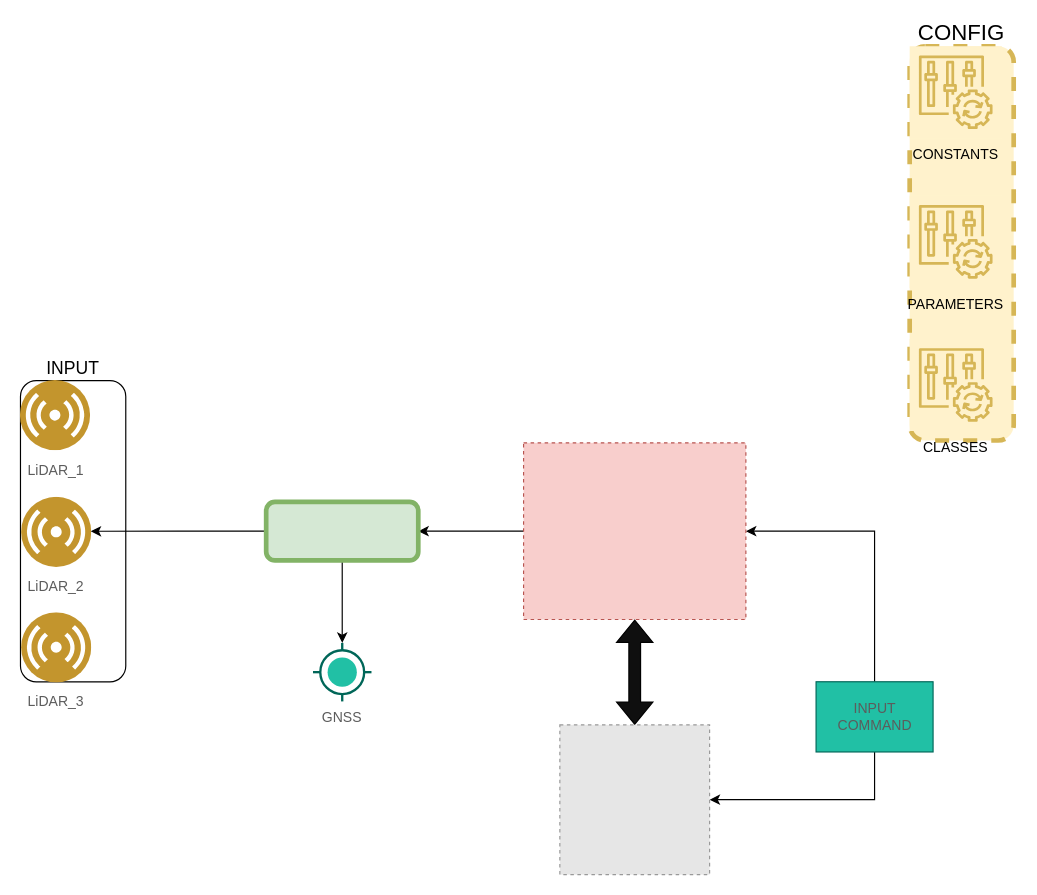
Some shapes in this 1037 by 895 pixel diagram are drawn without their labels. Grey dashed boxes stand in for pictures. Each missing label, with the centre of its shape:
MAIN: (x=634, y=531)
Parsor: (x=341, y=530)
